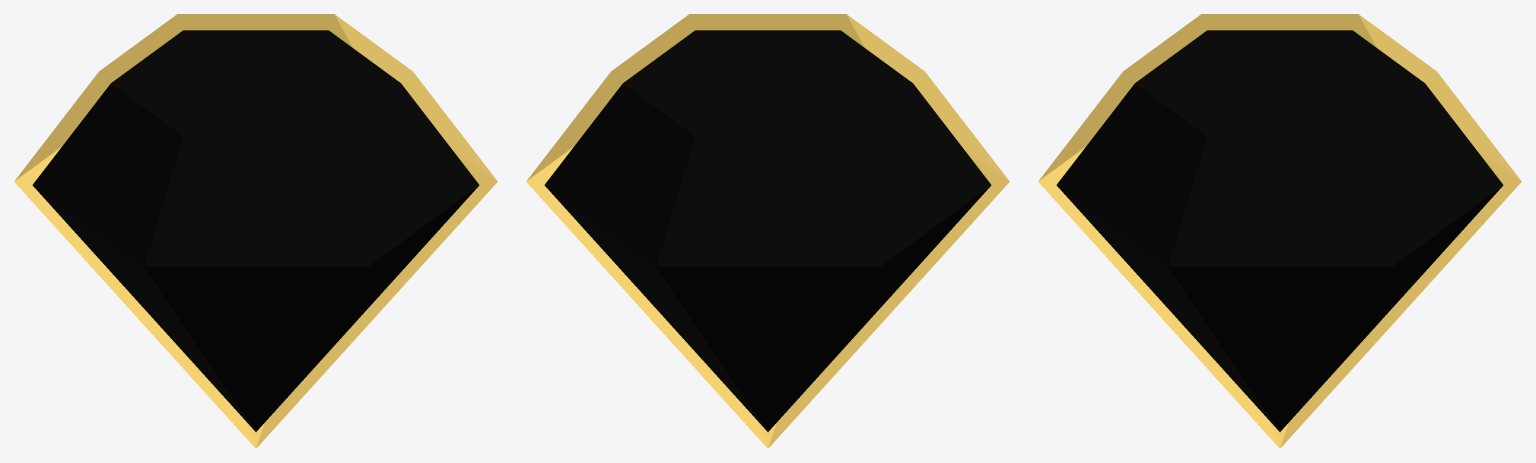
Rendered from gemBlack.glb.
The picture shows the model from 3 angles, left to right: view 1: azimuth 30°, elevation 25°; view 2: azimuth 150°, elevation 25°; view 3: azimuth 270°, elevation 25°; orthographic projection.
Parts seen in each view (by area): view 1: GemBlackAnimated, GemBlackAnimatedOutline; view 2: GemBlackAnimated, GemBlackAnimatedOutline; view 3: GemBlackAnimated, GemBlackAnimatedOutline.
Boxes of the visible parts, <box> form: GemBlackAnimated: <box>32,30,479,431</box>; GemBlackAnimatedOutline: <box>14,14,497,448</box>; GemBlackAnimated: <box>544,30,991,431</box>; GemBlackAnimatedOutline: <box>526,14,1009,448</box>; GemBlackAnimated: <box>1056,30,1503,431</box>; GemBlackAnimatedOutline: <box>1038,14,1521,448</box>.
Bounding box in the file's own units: 1.1 × 1.09 × 1.27.
Materials: 2 (2 with a texture image).
